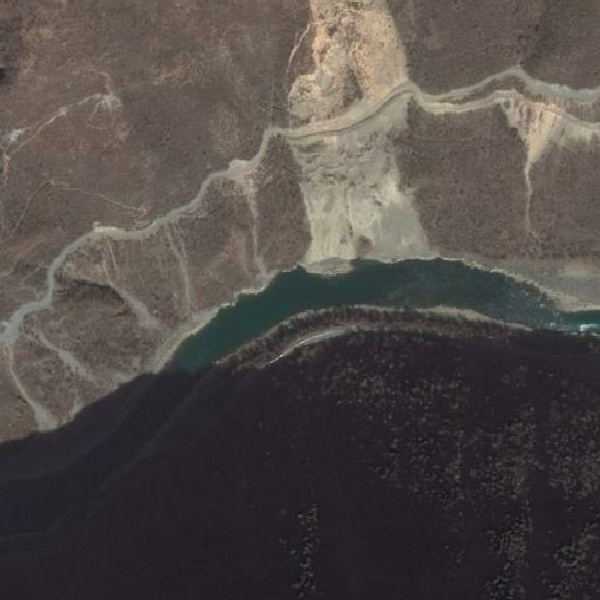slope: (287, 93, 428, 277), (287, 0, 409, 122), (501, 99, 599, 177)
